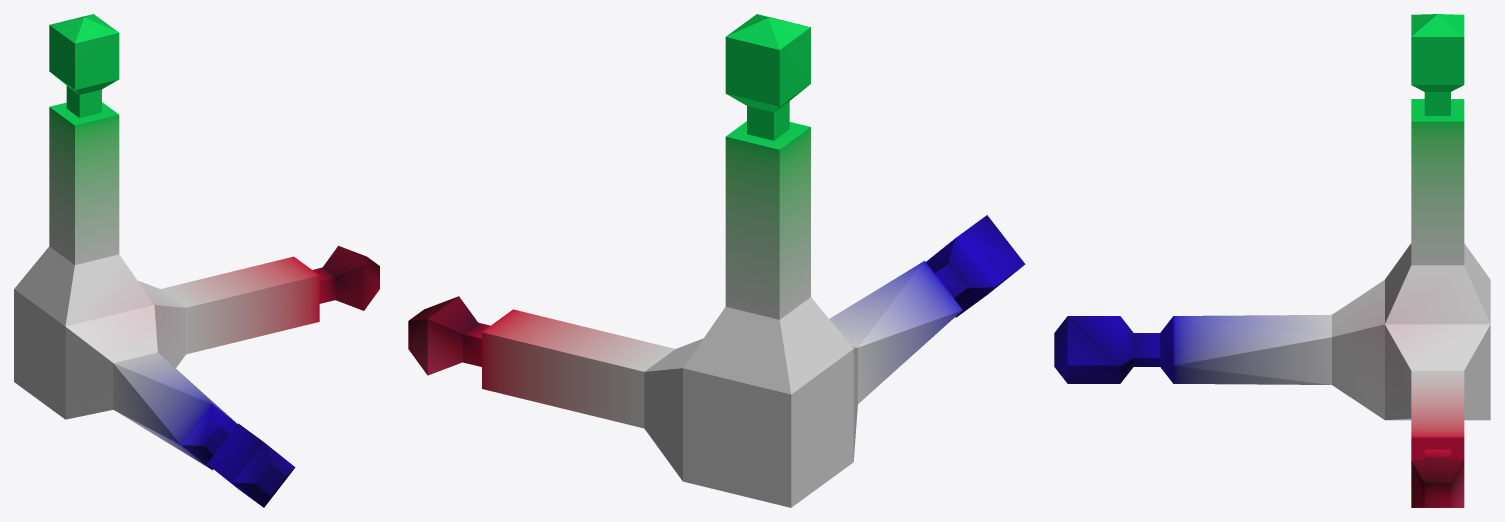
Rendered from gizmo.obj.
3 views of the same model, side by side, from view 1: azimuth 30°, elevation 25°; view 2: azimuth 150°, elevation 25°; view 3: azimuth 270°, elevation 25° (orthographic). The views are drawn at different scales.
Visible parts, largest first — view 1: Cube; view 2: Cube; view 3: Cube.
Part boxes in pixels (x1=…): Cube: x1=14, y1=14, x2=379, y2=507; Cube: x1=408, y1=14, x2=1025, y2=507; Cube: x1=1054, y1=14, x2=1490, y2=507.
Bounding box in the file's own units: 7.5 × 8.01 × 8.25.
